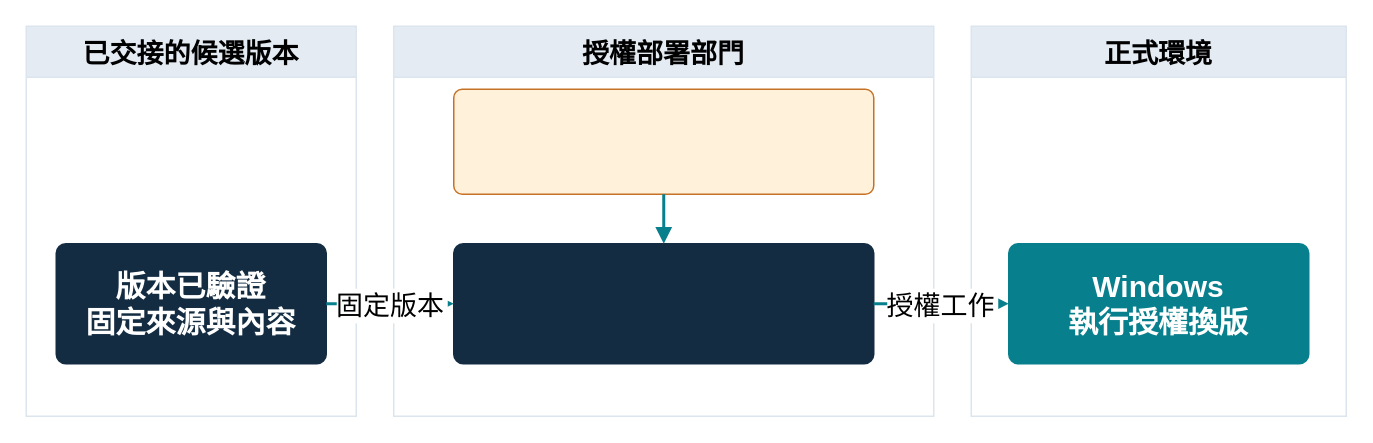
Image size: 1373x443. Some labels were removed from this diagram. The shapes that lost their labels are listed below. From the top down, each one's centre as x and y in pixels, then its label:
the point at 663,141: 部署人員 選版並放行
the point at 663,303: 部署系統 ADO 主／Rundeck 備
